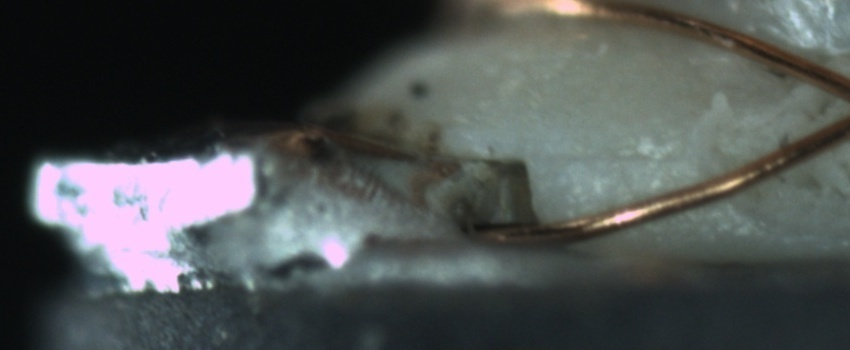DL: (545, 126, 683, 187)
